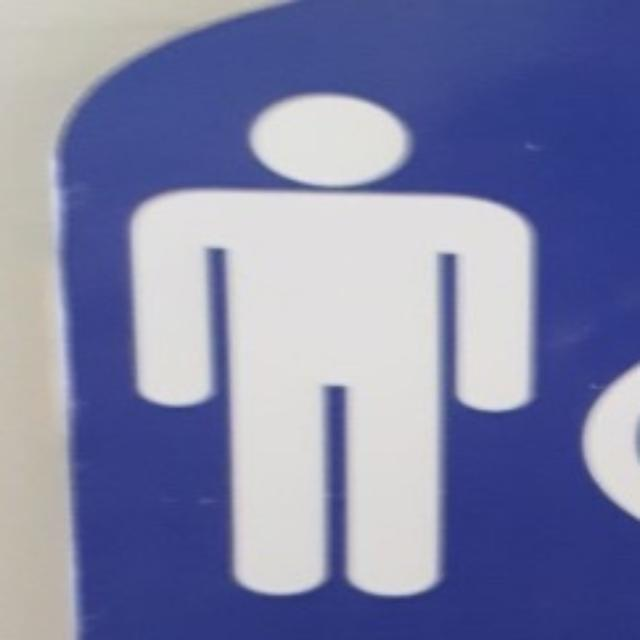mens_restroom: (132, 93, 534, 592)
